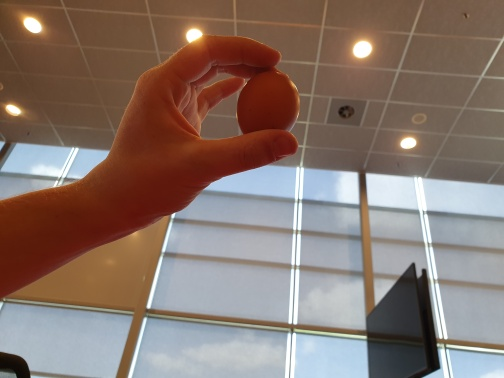egg: (236, 70, 301, 141)
